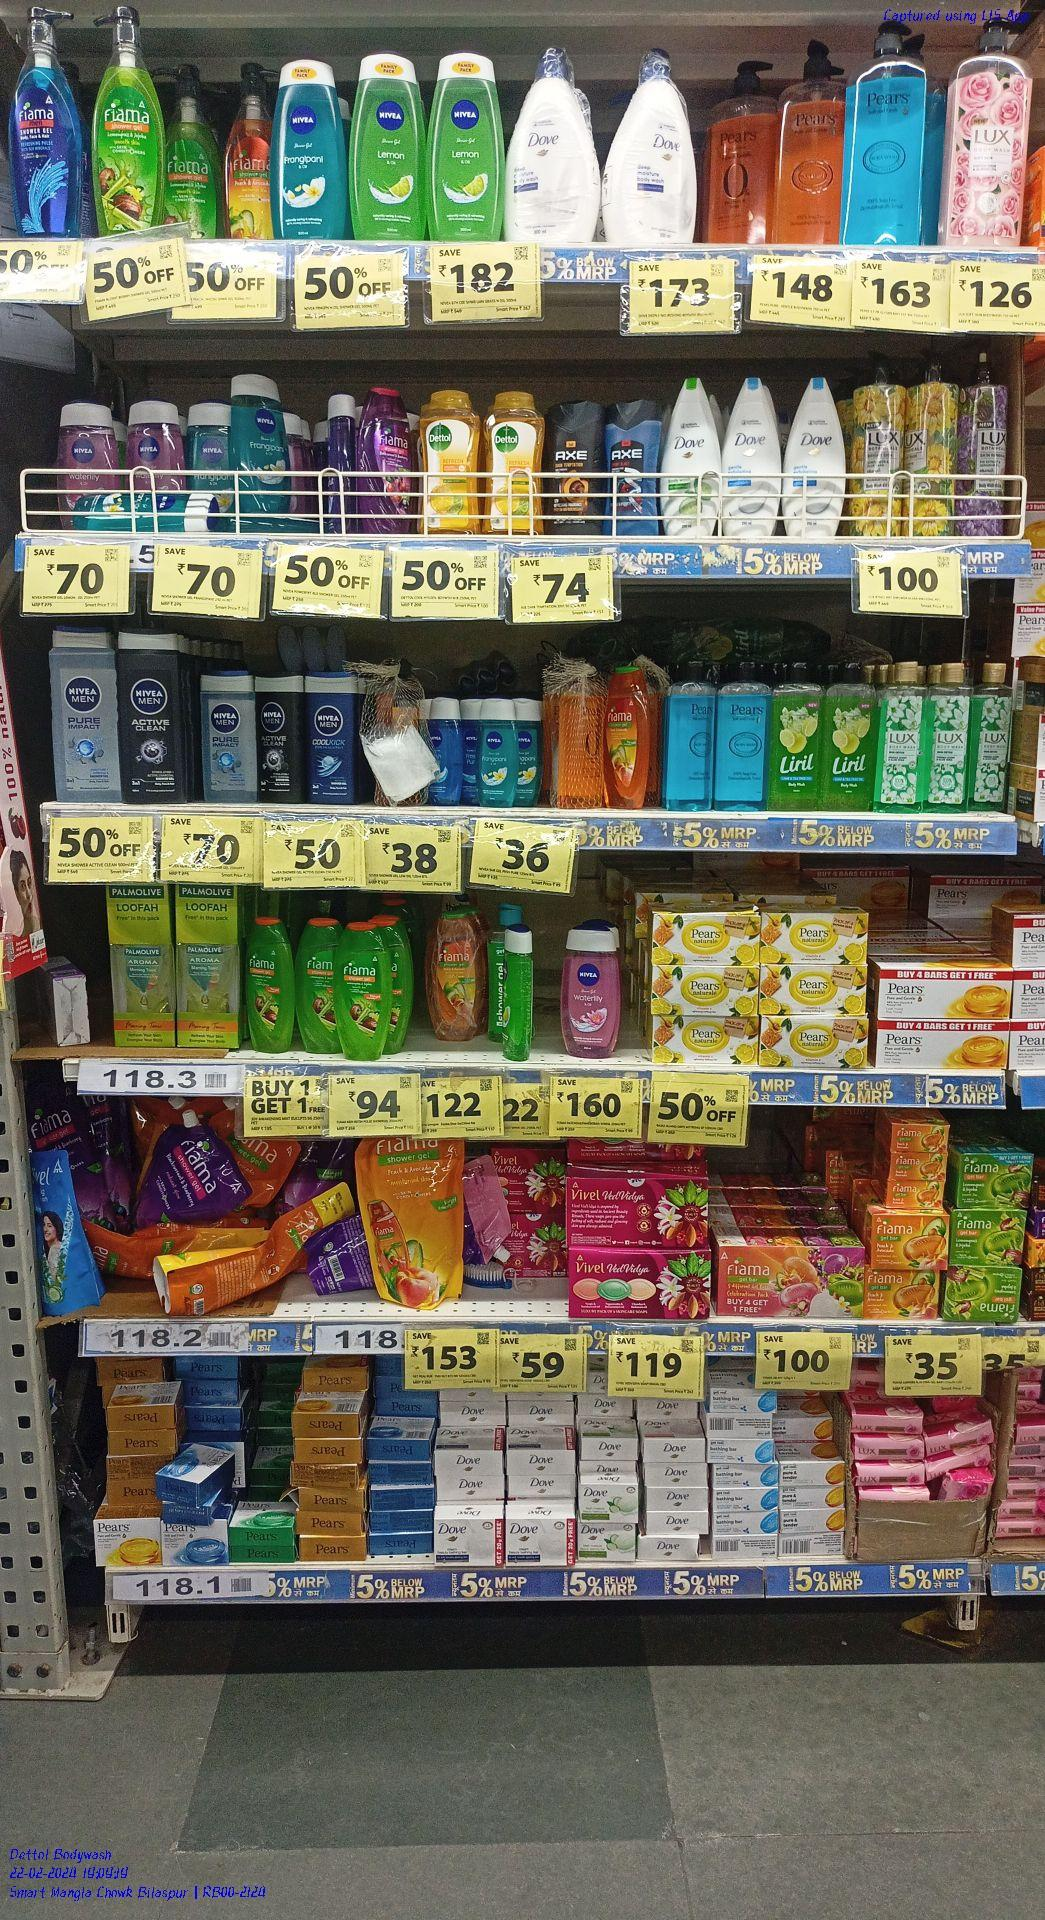Dettol_Bodywash_Refresh: (484, 390, 544, 534), (421, 390, 481, 534)
Dove_Gentle_Exfoliating_Body_Wash_250ML: (780, 376, 847, 537), (721, 377, 777, 537)
Dove_Refreshing_Body_Wash_250ML: (661, 373, 717, 537)
Fiama_Shower_Gel_Lemongrass_and_Jojoba_250ML: (333, 924, 384, 1063), (245, 919, 291, 1055), (296, 921, 332, 1055)
Fiama_Shower_Gel_Peach_and_Avocado_250ML: (430, 914, 477, 1044), (607, 669, 643, 808)
Lux_Body_Wash_Skin_Detox_Freesia_Scent_and_Alove_Vera_245ML: (879, 656, 921, 815), (930, 664, 968, 816), (970, 664, 1009, 809)
Nivea_Shower_Gel_Frangipani_and_Oil_250ML: (270, 58, 347, 241), (232, 373, 297, 516), (479, 696, 517, 806)
Nivea_Shower_Gel_Lemon_and_Oil_250ML: (347, 51, 422, 243), (429, 53, 504, 241)
Nivea_Shower_Gel_Waterlily_and_Oil_250ML: (559, 930, 616, 1060)
